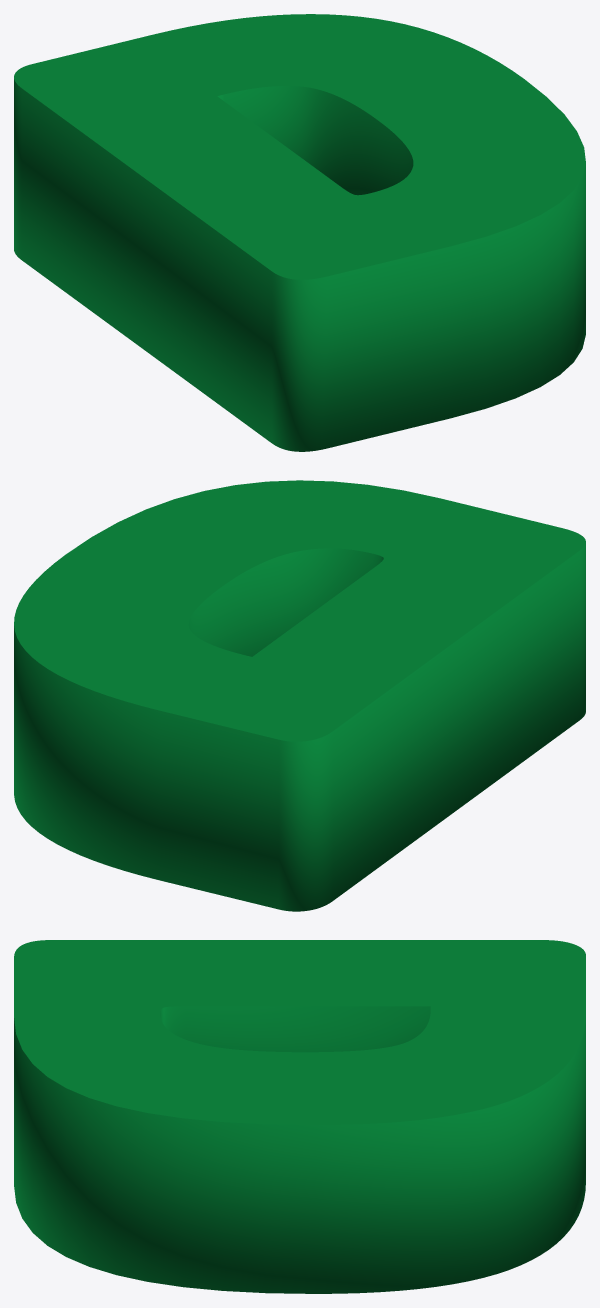
3 renders of one model, top to bottom at view 1: azimuth 30°, elevation 25°; view 2: azimuth 150°, elevation 25°; view 3: azimuth 270°, elevation 25°, orthographic.
Parts seen in each view (by area): view 1: d; view 2: d; view 3: d.
Part boxes in pixels (left/top/right/bottom): d: left=14, top=14, right=585, bottom=451; d: left=14, top=480, right=585, bottom=911; d: left=14, top=940, right=585, bottom=1293.
Size of the model in its own units: 0.273 by 0.1162 by 0.3566.
